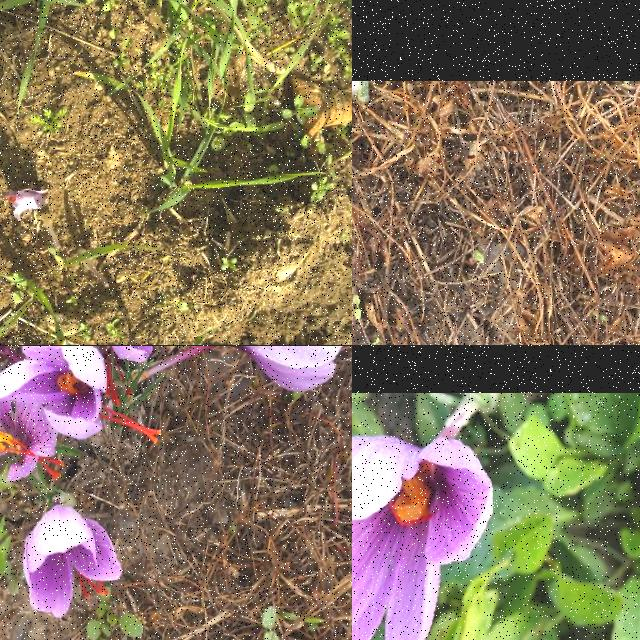flower: (352, 436, 493, 640), (0, 346, 160, 443), (22, 504, 122, 618), (0, 346, 64, 499), (8, 188, 48, 222)
overlap: (0, 346, 342, 499)
